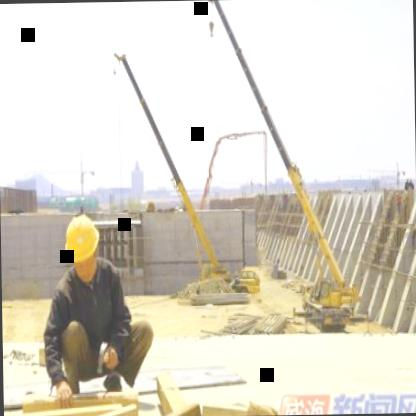helmet: (58, 207, 104, 280)
